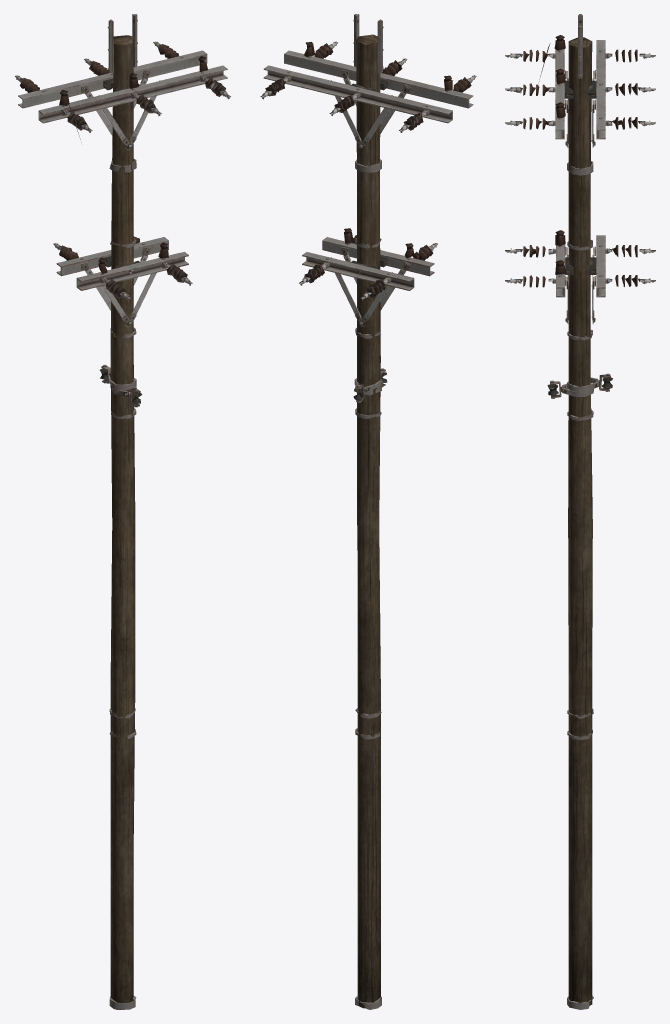
Rendered from pole2.glb.
3 renders of one model, left to right at view 1: azimuth 30°, elevation 25°; view 2: azimuth 150°, elevation 25°; view 3: azimuth 270°, elevation 25°, orthographic.
Parts seen in each view (by area): view 1: preset_02_pole, preset_02_cap; view 2: preset_02_pole, preset_02_cap; view 3: preset_02_pole, preset_02_cap.
Part boxes in pixels (left/top/right/bottom): preset_02_pole: left=110, top=35, right=135, bottom=1002; preset_02_cap: left=15, top=14, right=230, bottom=1009; preset_02_pole: left=356, top=34, right=380, bottom=1008; preset_02_cap: left=260, top=14, right=476, bottom=1009; preset_02_pole: left=568, top=37, right=592, bottom=1005; preset_02_cap: left=505, top=14, right=655, bottom=1009.
Size of the model in its own units: 1.2 by 6.13 by 0.8522.
Materials: 2 (2 with a texture image).
